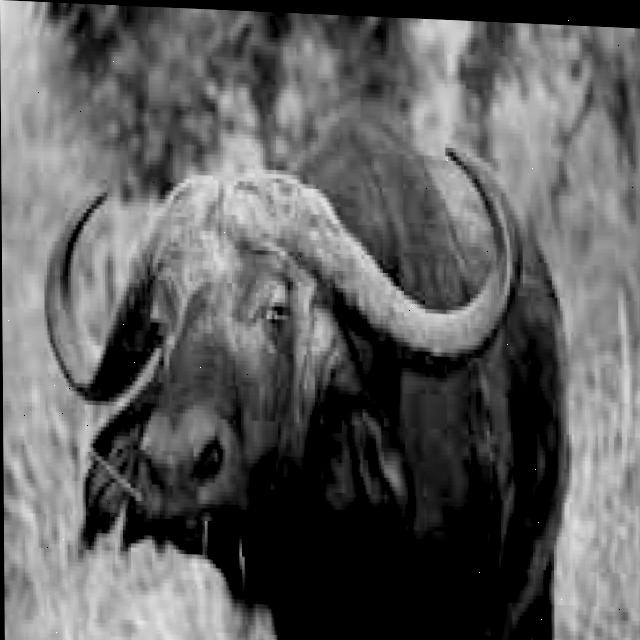Buffalo: (40, 91, 573, 640)
